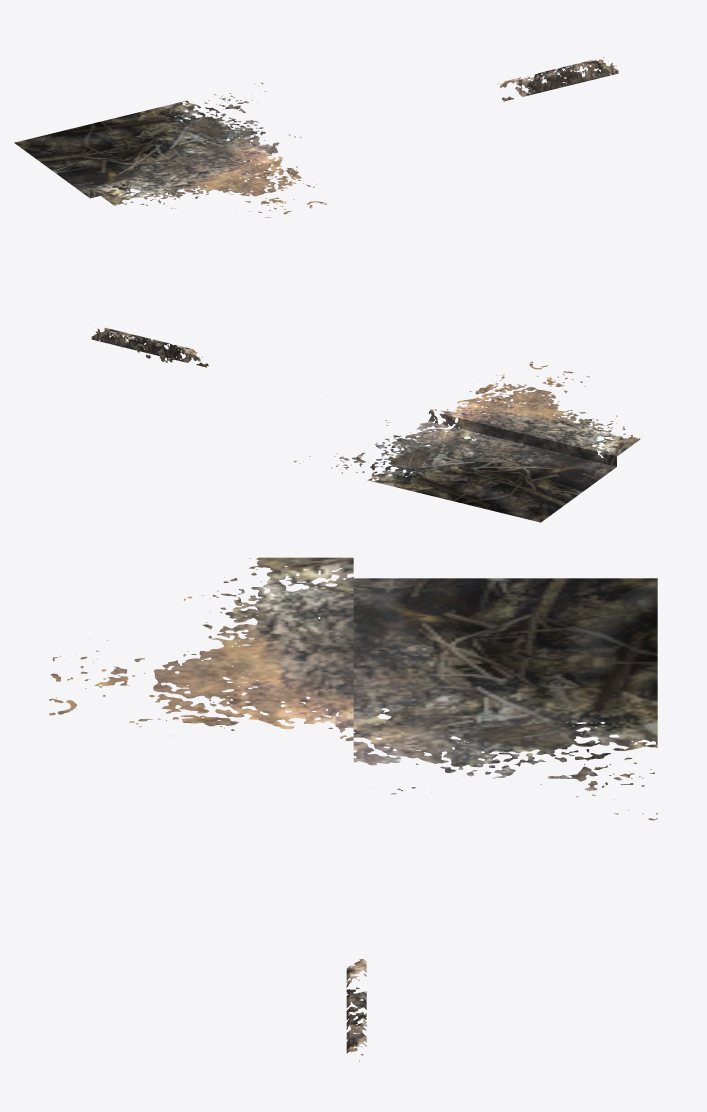
Rendered from RoadState02.fbx.
The picture shows the model from 3 angles, top to bottom: view 1: azimuth 30°, elevation 25°; view 2: azimuth 150°, elevation 25°; view 3: azimuth 270°, elevation 25°; orthographic projection. The views are drawn at different scales.
Parts seen in each view (by area): view 1: RoadState02; view 2: RoadState02; view 3: RoadState02.
Part boxes in pixels (<box>): RoadState02: <box>14,57,618,217</box>; RoadState02: <box>91,327,641,522</box>; RoadState02: <box>49,557,657,1061</box>.
Size of the model in its own units: 800 by 23.07 by 400.
